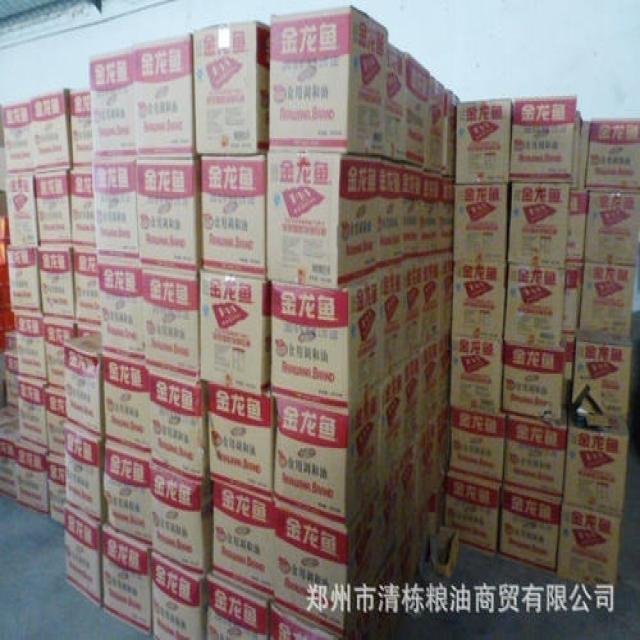box: (270, 7, 389, 155), (274, 381, 383, 529), (274, 493, 383, 640), (269, 275, 384, 413), (266, 153, 380, 291), (195, 22, 270, 157), (198, 269, 270, 396), (207, 382, 276, 505), (202, 155, 269, 280), (134, 34, 198, 162), (210, 478, 275, 601), (137, 160, 204, 276), (561, 408, 627, 519), (151, 460, 214, 576), (148, 369, 210, 483), (141, 266, 201, 381), (509, 96, 584, 185), (502, 408, 572, 499), (502, 263, 568, 354), (557, 502, 623, 593), (499, 487, 561, 579), (572, 328, 634, 419), (507, 180, 570, 268), (88, 49, 137, 162), (102, 525, 152, 633), (442, 468, 503, 556), (102, 440, 152, 546), (454, 99, 515, 185), (151, 551, 209, 640), (100, 256, 145, 369), (102, 357, 151, 460), (447, 403, 506, 485), (202, 574, 273, 640), (93, 160, 140, 259), (577, 263, 639, 337), (503, 344, 564, 419), (451, 261, 507, 342), (582, 189, 640, 266), (456, 184, 511, 263), (364, 542, 408, 640), (65, 333, 106, 438), (64, 423, 106, 524), (449, 337, 504, 414), (584, 120, 640, 194), (64, 502, 102, 610), (29, 88, 73, 177), (380, 364, 407, 493), (401, 51, 430, 168), (378, 263, 407, 379), (378, 463, 407, 564), (72, 243, 105, 328), (378, 157, 403, 269), (38, 243, 74, 320), (42, 312, 77, 391), (269, 605, 348, 640), (12, 308, 49, 382), (35, 170, 72, 244), (70, 165, 100, 248), (6, 175, 40, 246), (19, 374, 49, 453), (3, 101, 35, 175), (401, 510, 430, 591), (18, 443, 50, 514), (9, 244, 42, 312), (406, 345, 425, 460), (401, 162, 422, 261), (387, 44, 404, 162), (425, 74, 445, 173), (422, 339, 442, 438), (421, 253, 442, 347), (0, 404, 20, 502), (403, 259, 422, 360), (69, 88, 93, 167), (420, 419, 439, 512), (403, 445, 422, 534), (46, 386, 68, 461), (568, 184, 588, 266), (424, 168, 442, 256), (46, 456, 68, 527), (563, 264, 585, 335), (443, 89, 461, 175), (440, 249, 456, 339), (424, 475, 444, 542), (436, 403, 451, 482), (442, 173, 456, 253), (562, 335, 576, 408), (577, 120, 591, 189), (439, 337, 452, 409), (4, 349, 19, 411), (347, 603, 370, 640), (0, 310, 14, 354), (0, 264, 12, 313), (0, 103, 6, 192), (76, 320, 101, 339), (0, 352, 8, 409), (0, 216, 9, 266), (6, 328, 17, 350), (0, 194, 8, 216)
